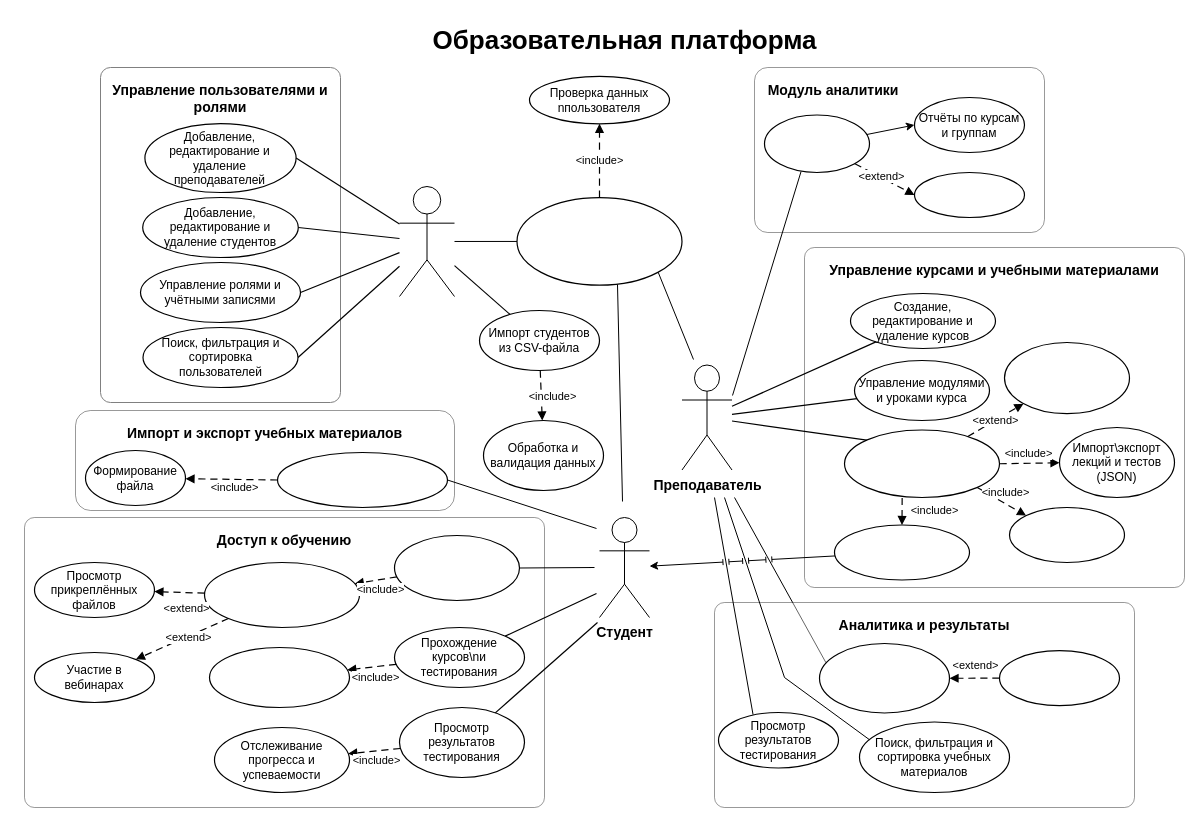
Image size: 1202x833. Some labels were removed from this diagram. The shapes that lost their labels are listed below. From the top down, each one's centre as x and y in pixels, then its label:
At (816,143): "Анализ успеваемости студентов".
At (969,194): "Выявление группы риска".
At (426,241): "Администратор".
At (599,241): "Авторизация и аутентификация".
At (1066,377): "Прикрепление файлов (Word, Excel, PDF, презентации)".
At (362,479): "Экспорт\Импорт лекций и тестов в JSON".
At (921,463): "Добавление контента урока (текст, файлы, тесты, вебинары)".
At (901,552): "Добавление и удаление студентов из курсов".
At (1066,534): "Управление студентами".
At (456,567): "Просмотр доступных\курсов".
At (281,594): "Просмотр модулей, уроков и лекционных материалов".
At (279,677): "Сохранение результатов тестирования".
At (884,677): "Просмотр аналитики прохождения курсов".
At (1059,678): "Выявление студентов из зоны риска".
